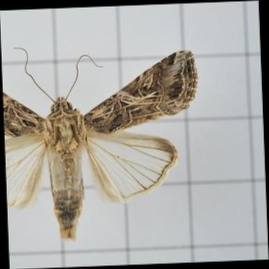Spodoptera litura: (4, 43, 202, 239)
